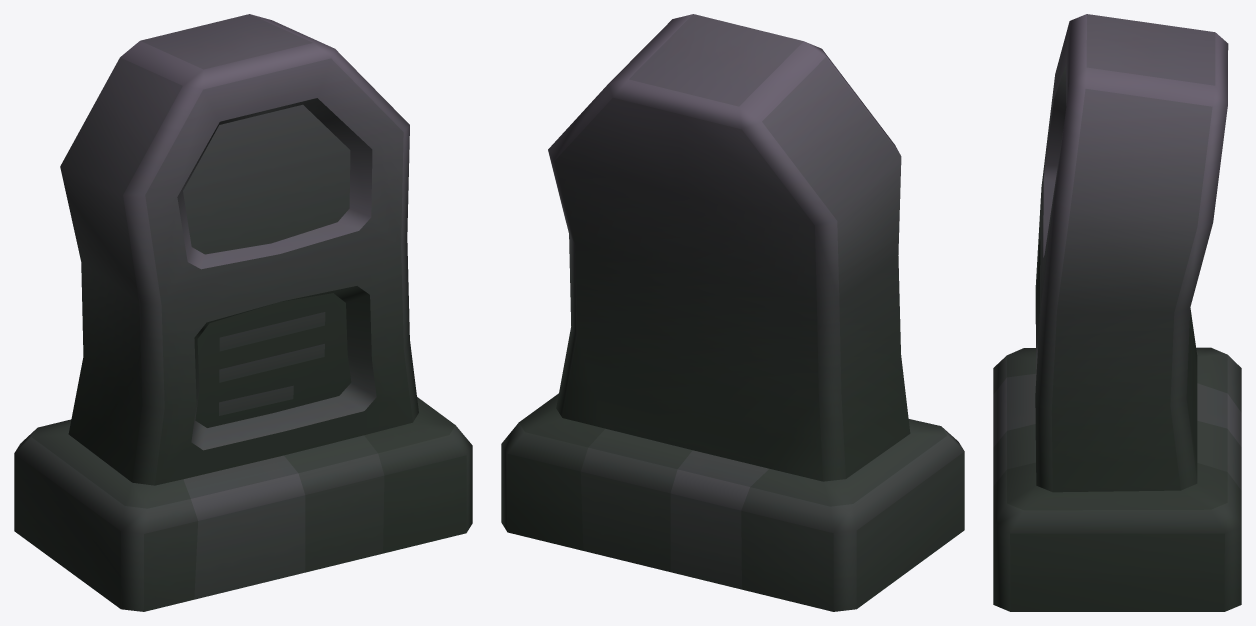
File: undead_tomb_stone_1.fbx
The picture shows the model from 3 angles, left to right: view 1: azimuth 30°, elevation 25°; view 2: azimuth 150°, elevation 25°; view 3: azimuth 270°, elevation 25°; orthographic projection.
Parts seen in each view (by area): view 1: undead_tomb_stone_1; view 2: undead_tomb_stone_1; view 3: undead_tomb_stone_1.
Boxes of the visible parts, <box> form: undead_tomb_stone_1: <box>14,14,472,611</box>; undead_tomb_stone_1: <box>501,14,964,611</box>; undead_tomb_stone_1: <box>993,14,1241,611</box>.
Size of the model in its own units: 1.35 by 1.77 by 0.8223.
